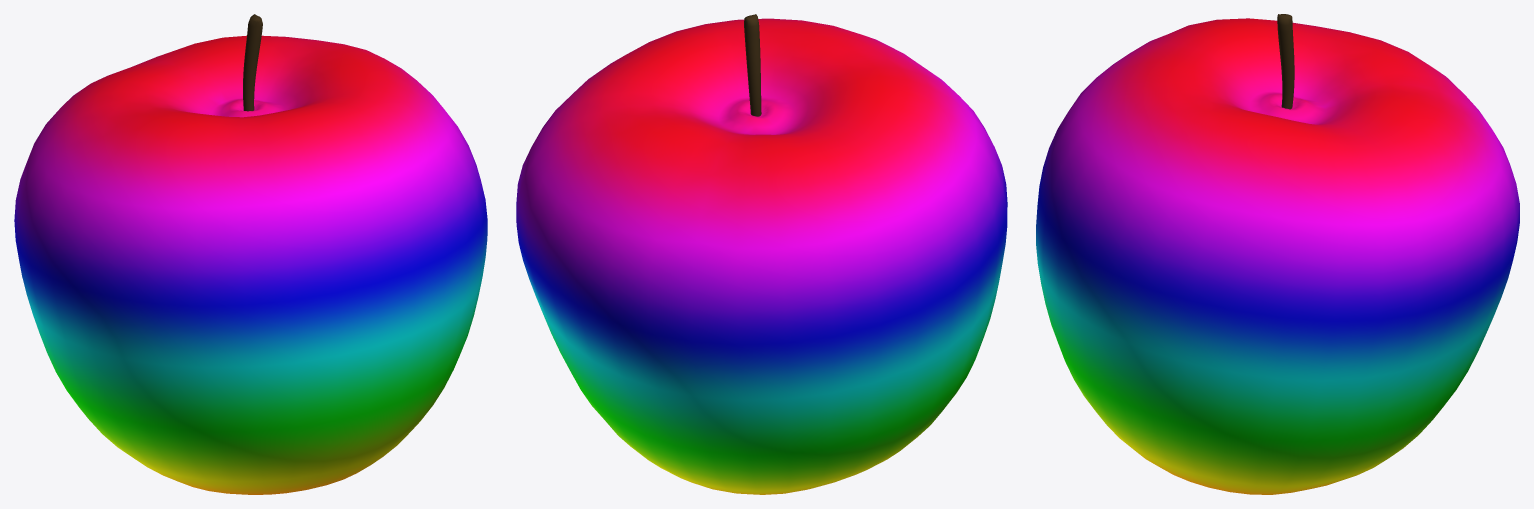
The model's file is apple.fbx.
The picture shows the model from 3 angles, left to right: view 1: azimuth 30°, elevation 25°; view 2: azimuth 150°, elevation 25°; view 3: azimuth 270°, elevation 25°; orthographic projection. The views are drawn at different scales.
Parts seen in each view (by area): view 1: apple:Mesh; view 2: apple:Mesh; view 3: apple:Mesh.
Boxes of the visible parts, x1,y1,x2,y2 form: apple:Mesh: (14,14,487,494); apple:Mesh: (516,14,1007,494); apple:Mesh: (1036,14,1519,494).
Bounding box in the file's own units: 1.57 × 1.61 × 1.56.
